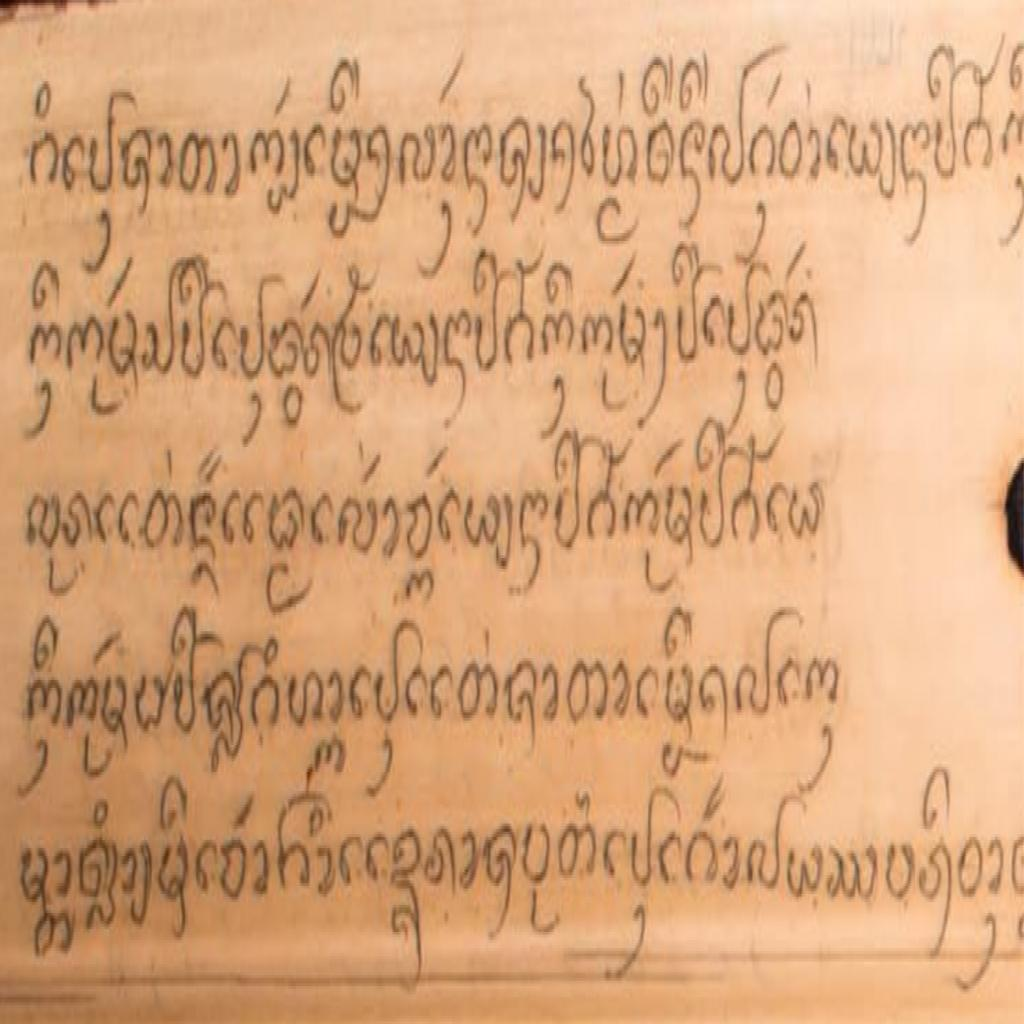LN012: (826, 839, 881, 911)
LN034: (707, 120, 748, 194)
